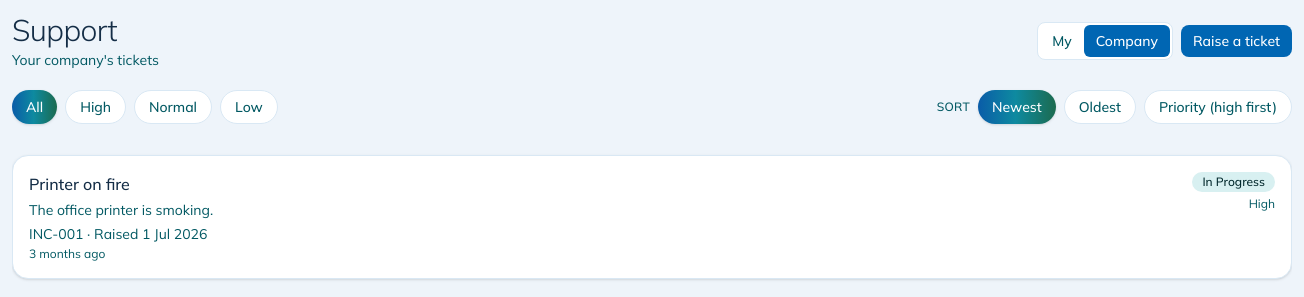
Scenario: CasesPage › switches to the "My" tier and shows the personal empty message
Expected: the text "Printer on fire" is shown, [29,174,130,194]
Click the tab "My" at (1062, 41), box [1040,25,1084,57]
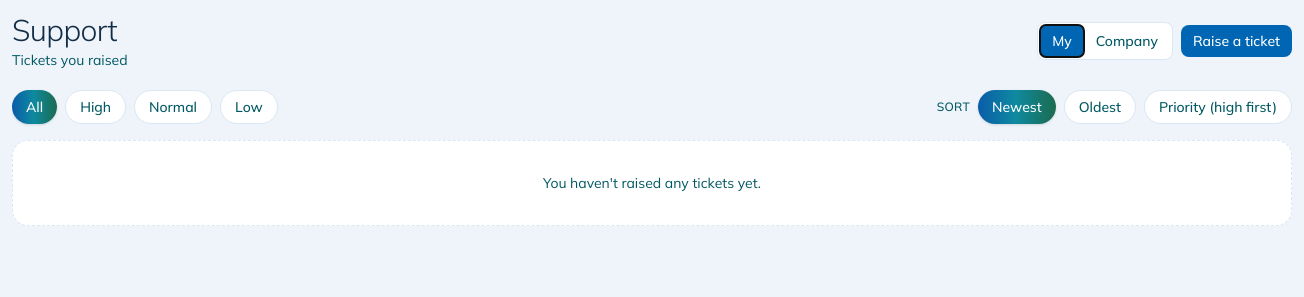
Now the text "You haven't raised any tickets yet." is shown, box [12,140,1292,226]
Now the text "Tickets you raised" is shown, box [12,50,128,70]
